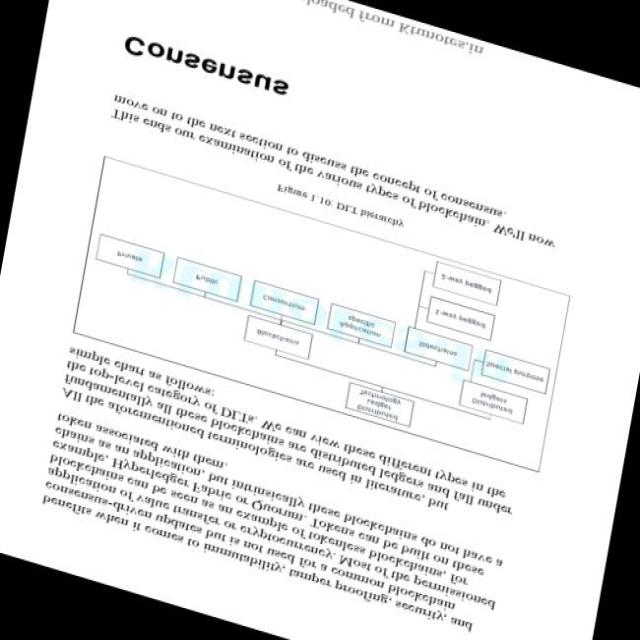Figure Detection - v3 Dataset Version2: (62, 146, 580, 484)
